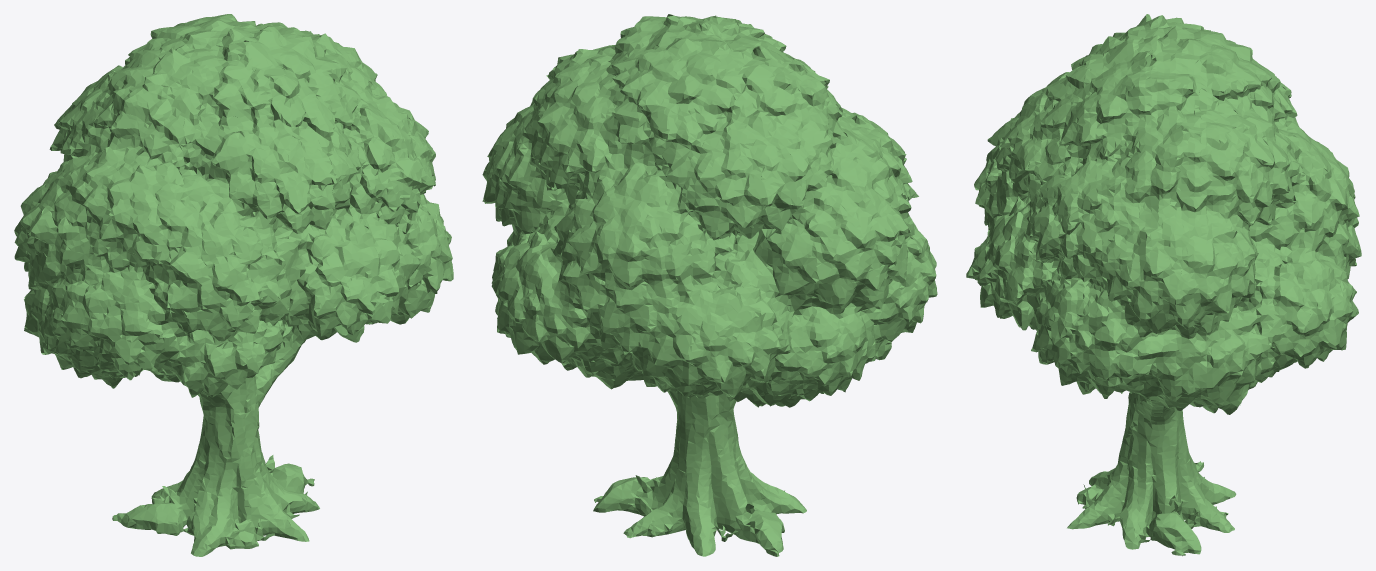
The model's file is tree_forest_lod.glb.
3 renders of one model, left to right at view 1: azimuth 30°, elevation 25°; view 2: azimuth 150°, elevation 25°; view 3: azimuth 270°, elevation 25°, orthographic. The views are drawn at different scales.
Visible parts, largest first — view 1: TreeForest; view 2: TreeForest; view 3: TreeForest.
Boxes of the visible parts, left/top/right/bottom form: TreeForest: left=14, top=14, right=453, bottom=556; TreeForest: left=482, top=14, right=937, bottom=556; TreeForest: left=966, top=14, right=1361, bottom=556.
Bounding box in the file's own units: 1.65 × 1.89 × 1.42.
